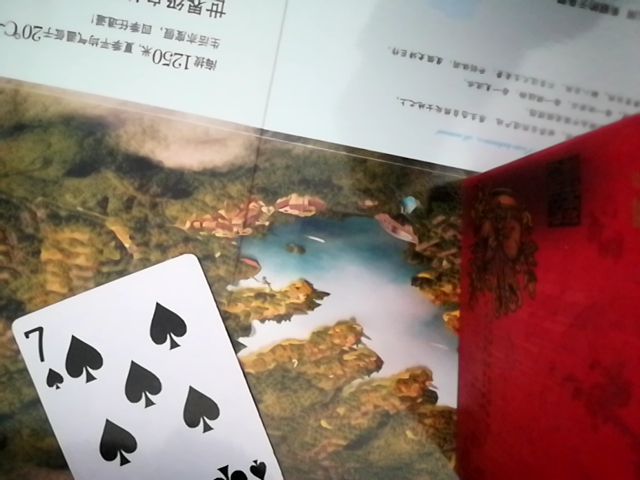ht 7: (4, 251, 291, 479)
